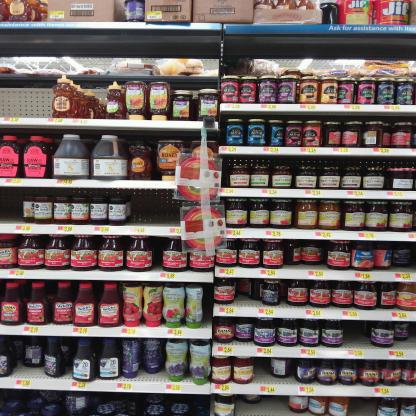Void: (1, 81, 52, 112), (133, 192, 173, 221), (236, 400, 288, 414), (344, 320, 366, 347), (352, 396, 374, 413), (6, 188, 16, 222), (400, 325, 414, 344), (23, 366, 41, 378)
